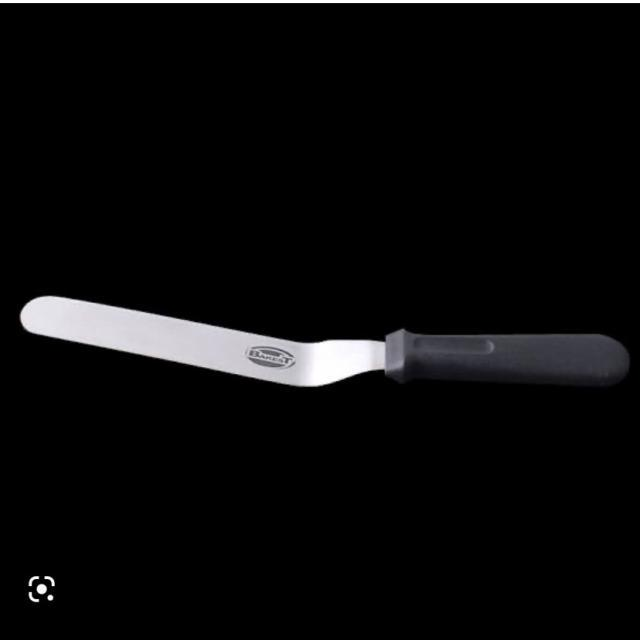Knife: (12, 248, 637, 448)
